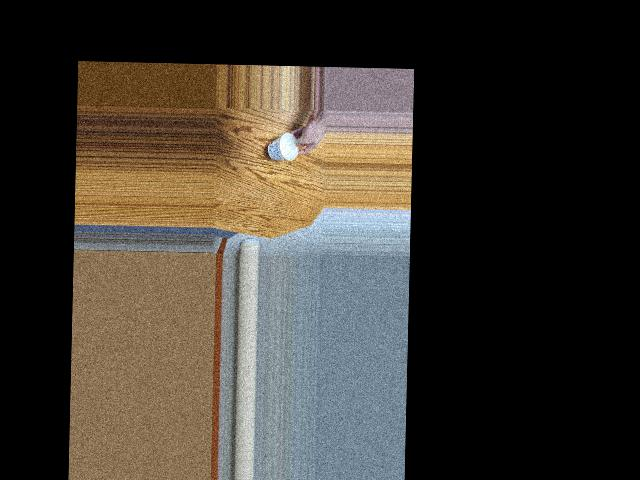cotage: (264, 137, 298, 160)
